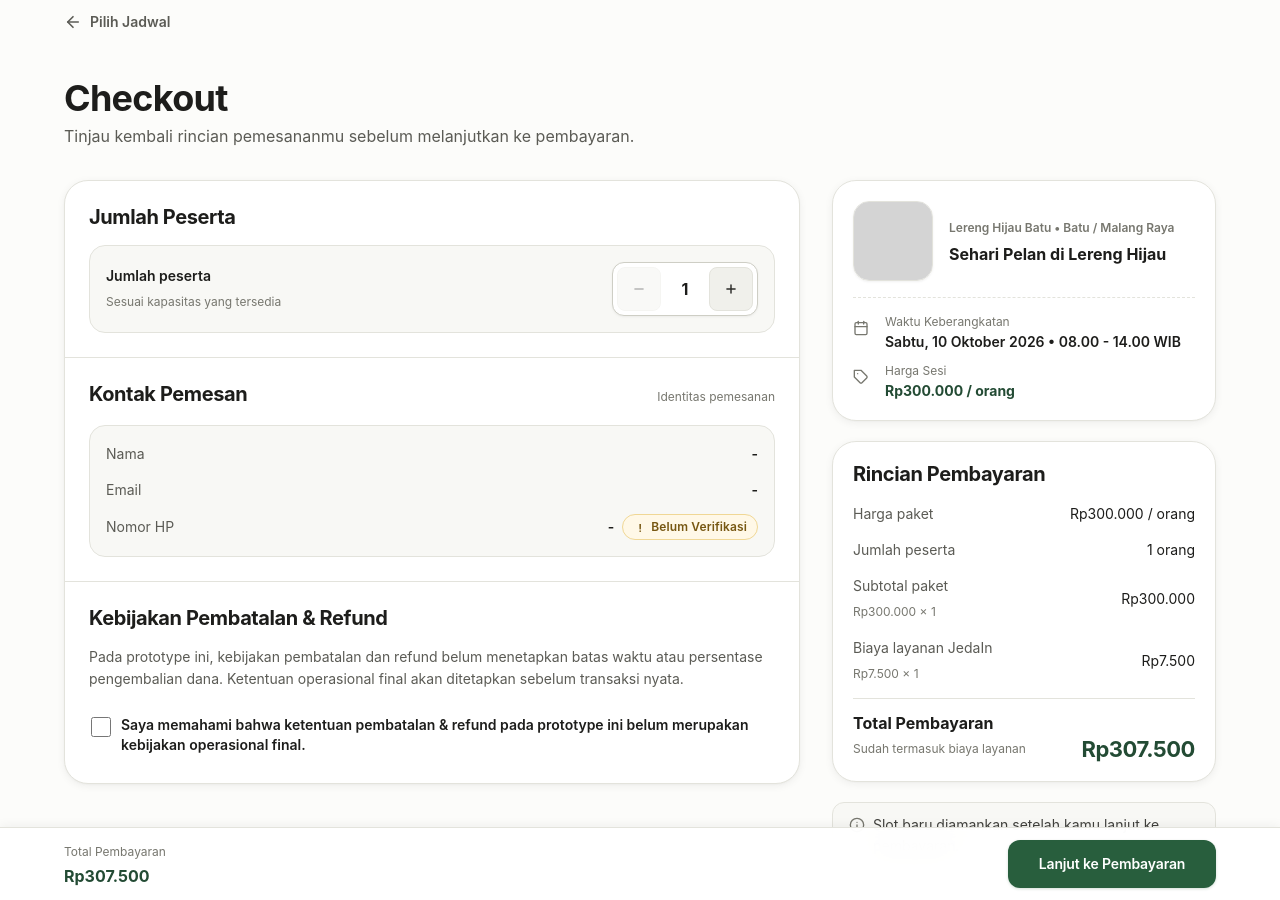
it: CheckoutScreen Targeted Transaction-Correctness Tests › 5. participant quantity defaults to 1, updates price, and does NOT mutate remainingSlots
Check: the button named "Kurangi jumlah peserta" is disabled, box [617,267,661,311]
Click the button named "Tambah jumlah peserta": (731, 289) [709,267,753,311]
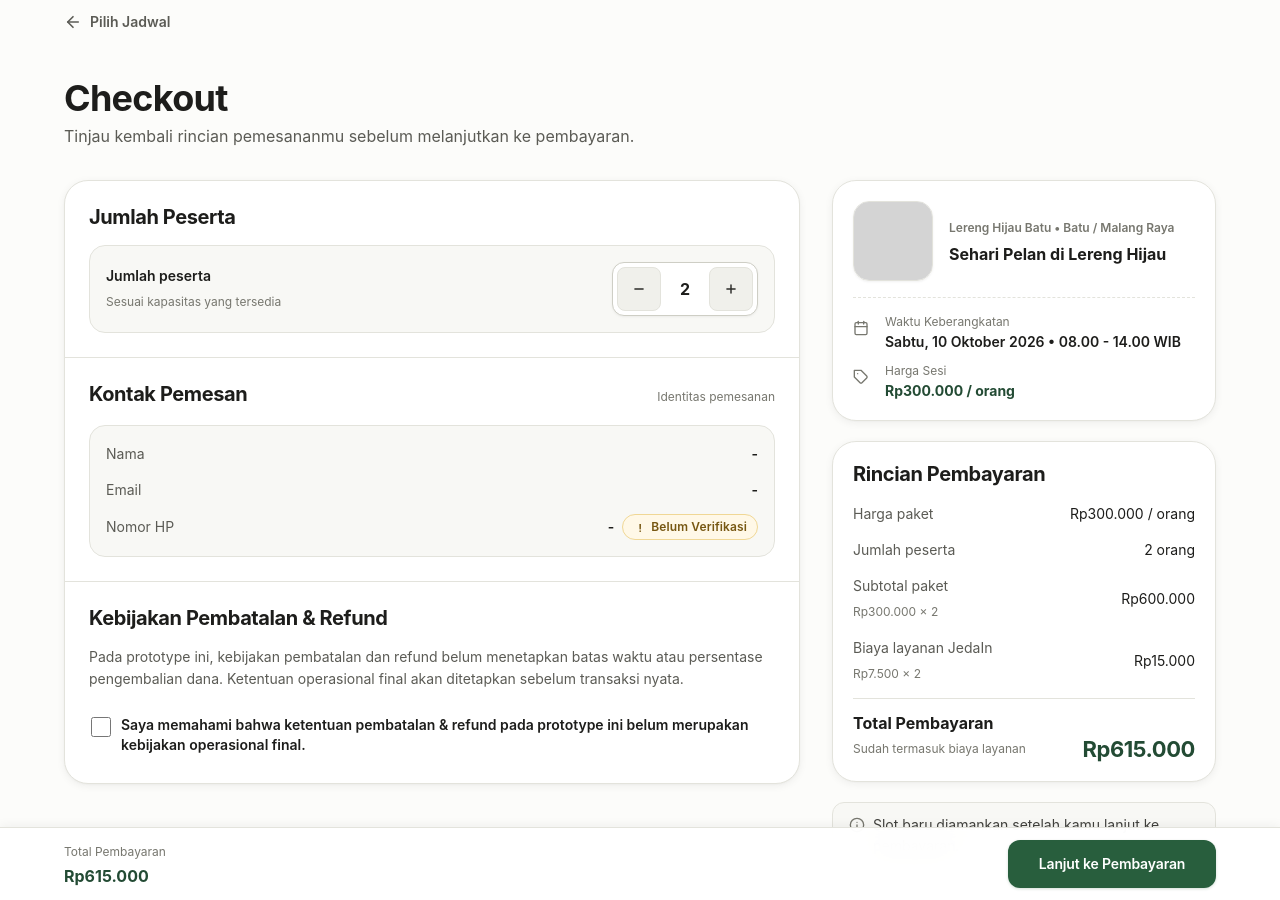
Check: the text "Rp300.000 × 2" is shown, box [853,600,948,624]
Check: the text "Rp600.000" is shown, box [1121,587,1195,611]
